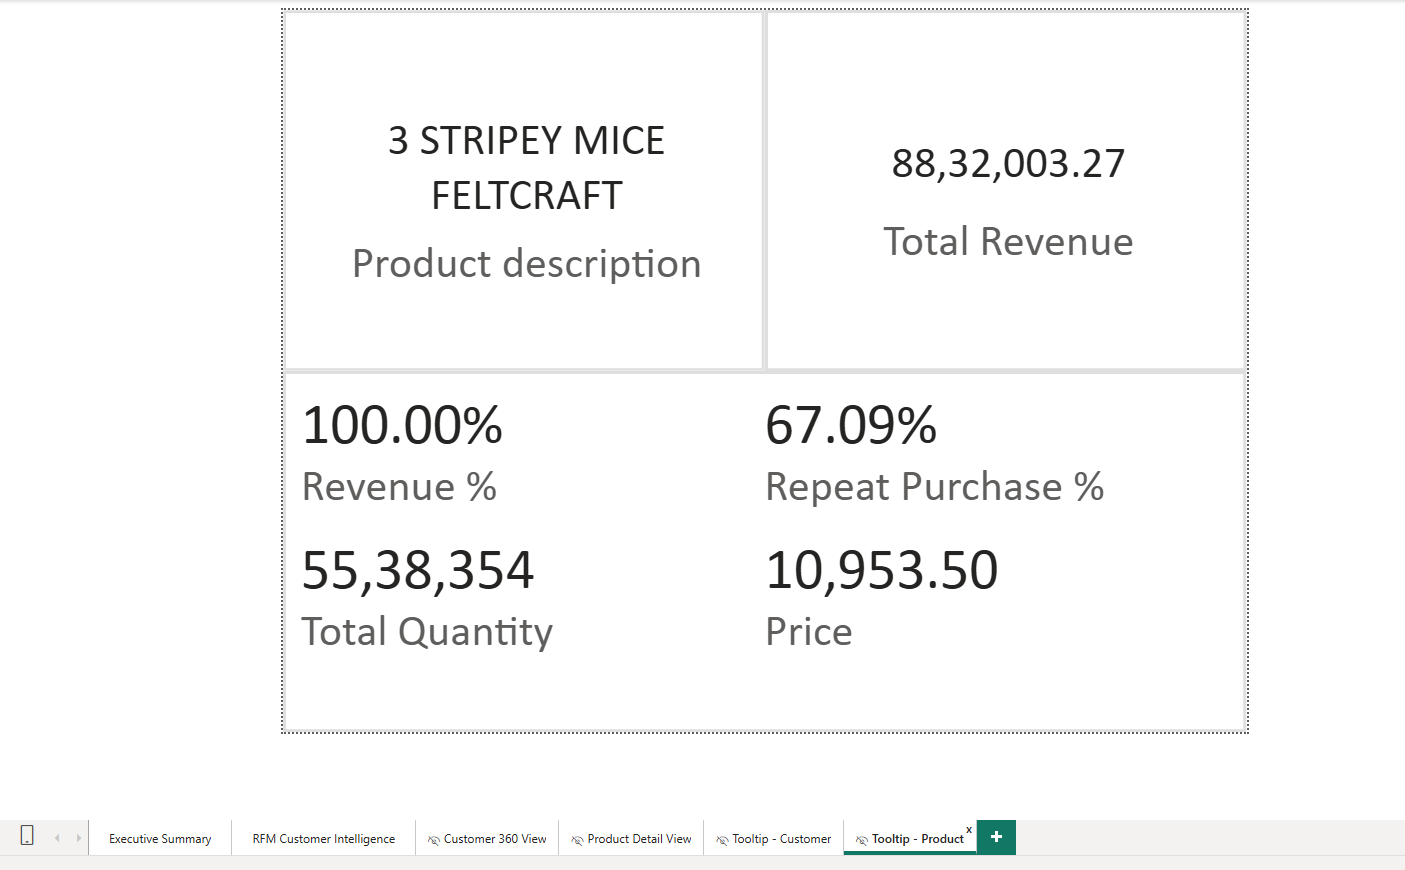

The page's visual inventory and layout, read from the dashboard file:
{"tool":"powerbi","page":{"name":"Tooltip - Product","canvas":[320,240],"ordinal":5},"visuals":[{"type":"card","fields":{"Values":["Min(dim_product.product_description)"]},"box":[0,0,160,120],"z":0},{"type":"card","fields":{"Values":["fact_sales.Total Revenue"]},"box":[160,0,160,120],"z":1},{"type":"multiRowCard","fields":{"Values":["fact_sales.Revenue %","fact_sales.Repeat Purchase %","Sum(fact_sales.quantity)","Max(fact_sales.price)"]},"box":[0,120,320,120],"z":2}]}

Visuals, with their boxes on the page's 320x240 design canvas (x1, y1, x2, y2). These are canvas units, not pixel positions in the 1405x870 screenshot, which may show the page scaled, cropped or inside an application window:
card - Min(dim_product.product_description): left=0, top=0, right=160, bottom=120
card - fact_sales.Total Revenue: left=160, top=0, right=320, bottom=120
multiRowCard - fact_sales.Revenue % x fact_sales.Repeat Purchase %: left=0, top=120, right=320, bottom=240
